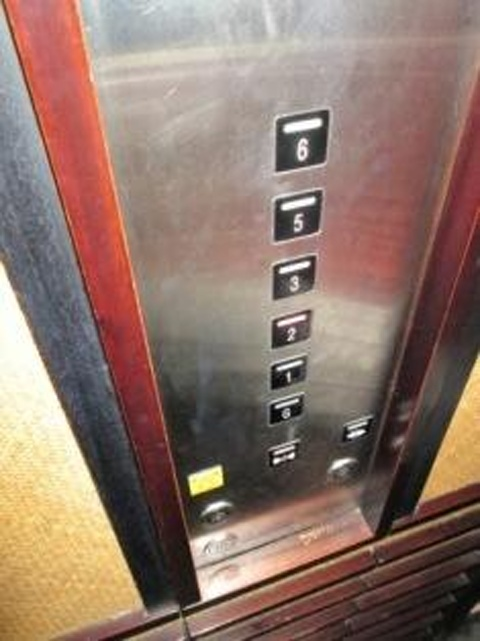1: (270, 354, 307, 392)
2: (271, 311, 312, 350)
3: (273, 254, 316, 301)
5: (272, 188, 323, 242)
6: (274, 108, 331, 177)
G: (269, 392, 304, 425)
blur: (187, 462, 226, 495), (197, 498, 237, 528), (327, 456, 361, 485), (342, 416, 373, 443)
close: (269, 439, 299, 471)
